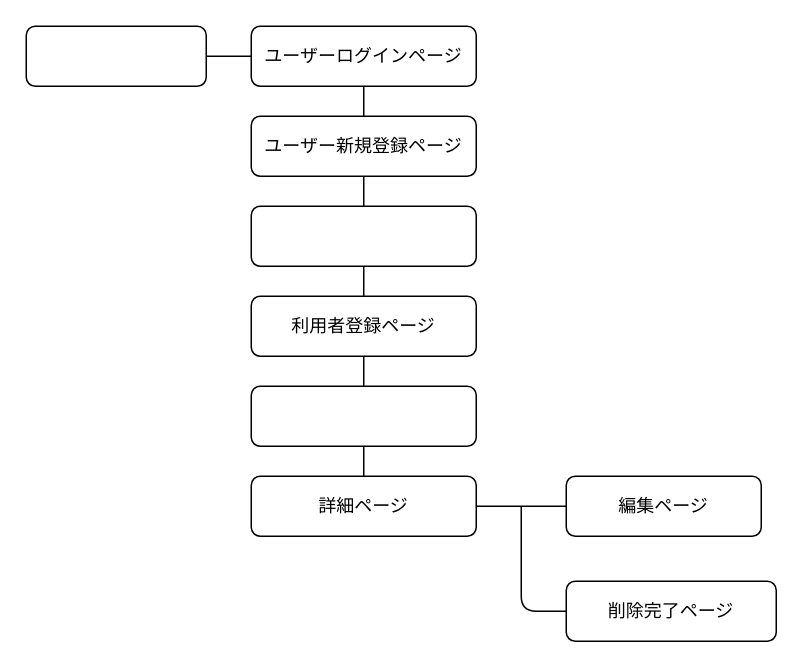
Image size: 803x668. Some labels were removed from this diagram. Each missing label, with the box of its shape:
ユーザーマイページ: (250, 205, 476, 266)
一覧ページ: (25, 25, 206, 86)
投稿ページ: (250, 385, 476, 446)
